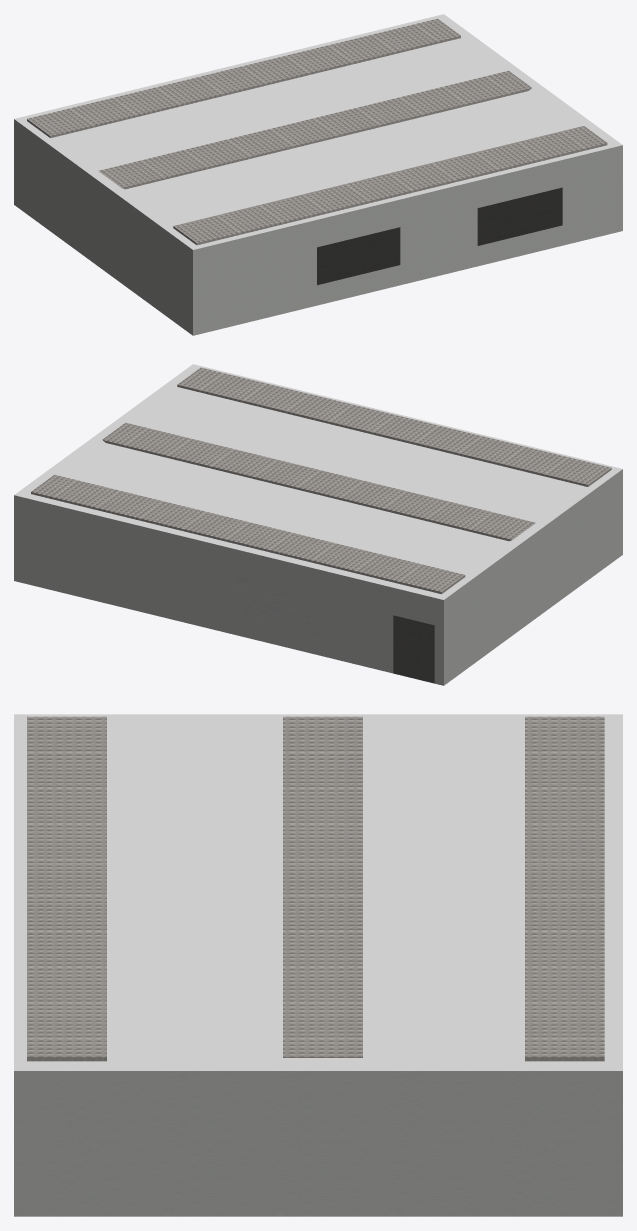
File: AULAT2_BLENDER.fbx
3 renders of one model, top to bottom at view 1: azimuth 30°, elevation 25°; view 2: azimuth 150°, elevation 25°; view 3: azimuth 270°, elevation 25°, orthographic. The views are drawn at different scales.
Parts seen in each view (by area): view 1: Paredes, Techo, Acusticos, Piso.001; view 2: Paredes, Techo, Acusticos, Piso.001; view 3: Techo, Paredes, Acusticos.
Part boxes in pixels (box(x1,y1,x2,y2)): Paredes: box(14, 119, 622, 335); Techo: box(14, 14, 622, 249); Acusticos: box(27, 18, 607, 245); Piso.001: box(317, 187, 562, 285); Paredes: box(14, 469, 622, 685); Techo: box(14, 364, 622, 599); Acusticos: box(31, 367, 611, 594); Piso.001: box(393, 615, 434, 683); Techo: box(14, 714, 622, 1070); Paredes: box(14, 1071, 622, 1216); Acusticos: box(27, 716, 604, 1061).
Size of the model in its own units: 9426 by 1844 by 6802.
4 materials, 3 textured.
